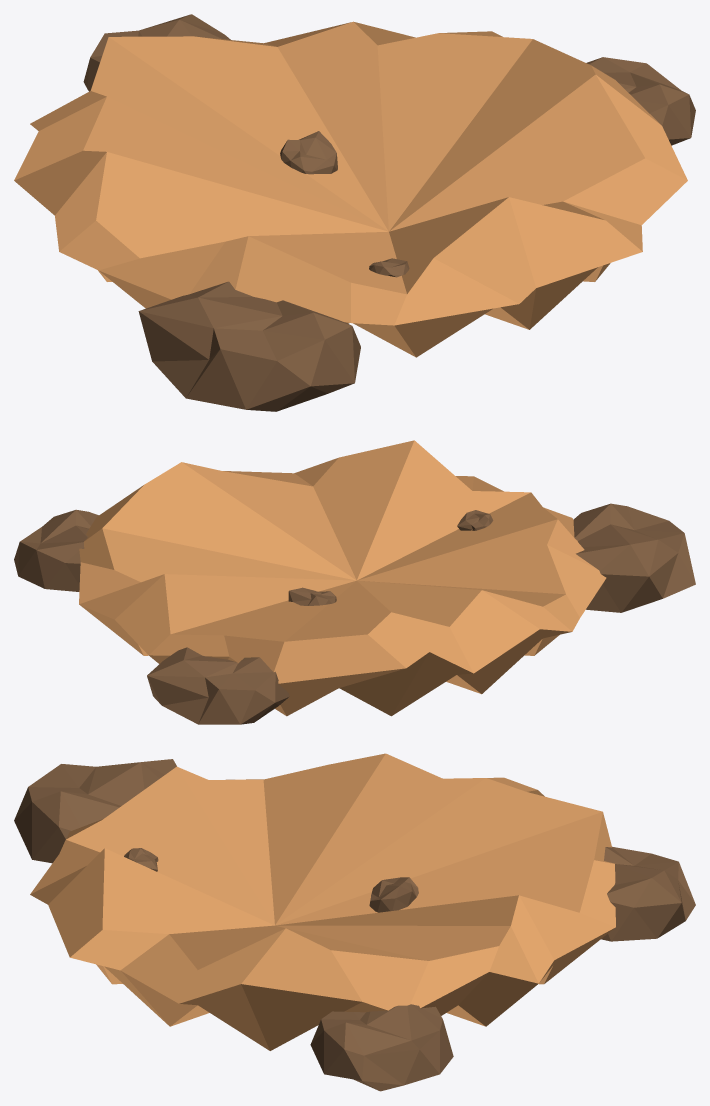
File: VineDug.fbx
3 views of the same model, one above another, from view 1: azimuth 30°, elevation 25°; view 2: azimuth 150°, elevation 25°; view 3: azimuth 270°, elevation 25° (orthographic). The views are drawn at different scales.
Visible parts, largest first — view 1: Hole, Rock; view 2: Hole, Rock; view 3: Hole, Rock.
Boxes of the visible parts, x1,y1,x2,y2 form: Hole: (14, 21, 687, 357); Rock: (83, 14, 695, 411); Hole: (79, 440, 606, 716); Rock: (14, 503, 695, 724); Hole: (30, 753, 615, 1050); Rock: (14, 759, 695, 1091).
Size of the model in its own units: 2.22 by 0.4955 by 2.21.
